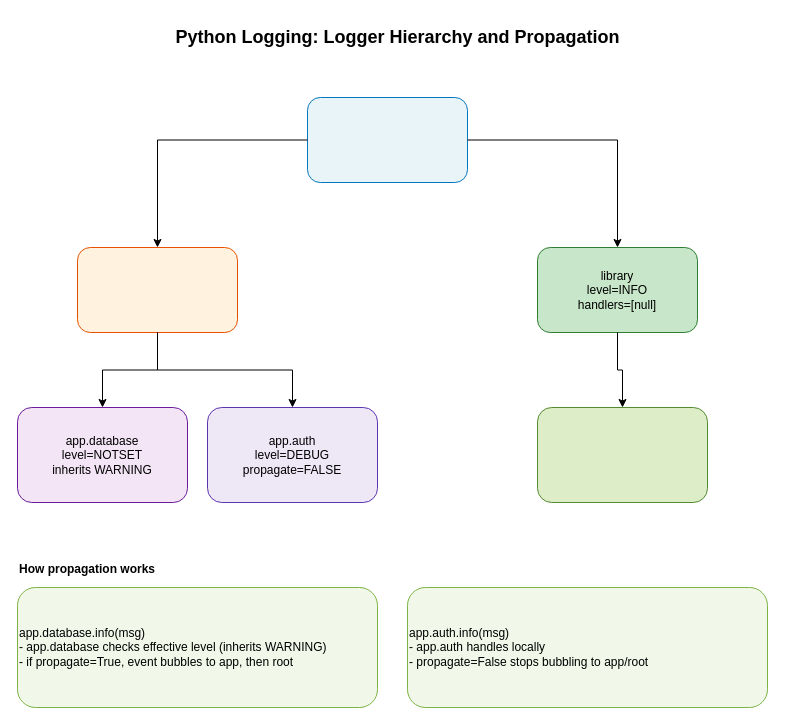
This 785x725 diagram has some shape labels left out. The centre of each missing label's shape, as x and y in pixels:
"app level=WARNING handlers=[file]" belongs at (x=157, y=289).
"library.requests level=NOTSET inherits INFO" belongs at (x=622, y=454).
"root level=DEBUG handlers=[console]" belongs at (x=387, y=139).
